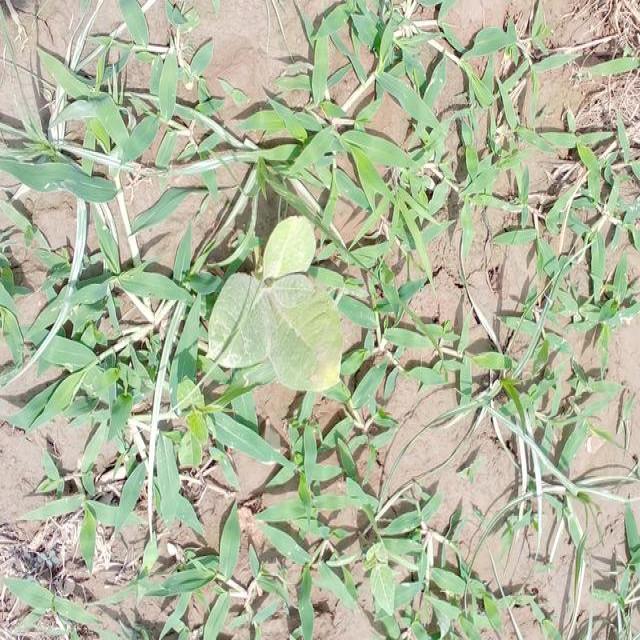crop: (204, 204, 344, 400)
